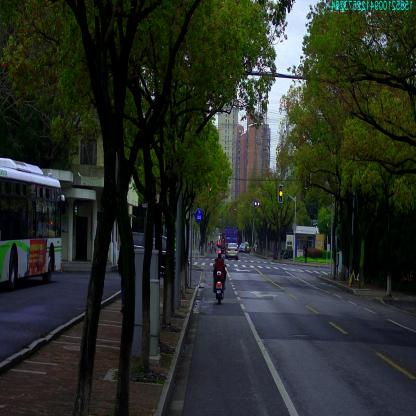traffic-light: (279, 184, 283, 202), (209, 179, 212, 197)
